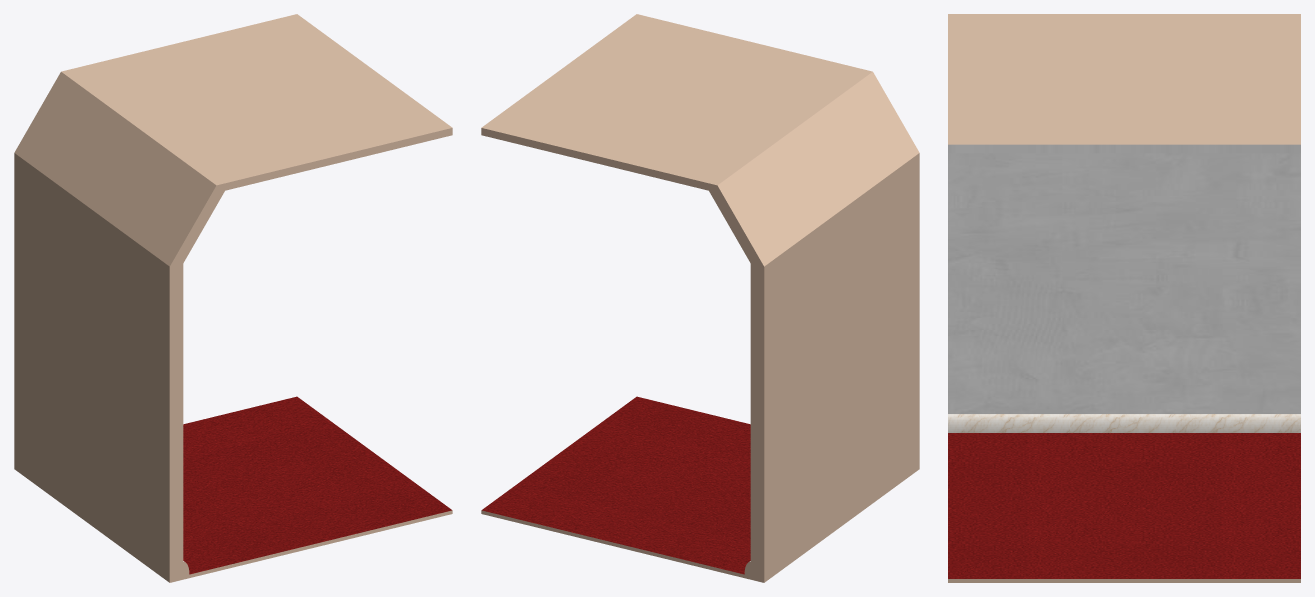
Rendered from Pared.fbx.
3 renders of one model, left to right at view 1: azimuth 30°, elevation 25°; view 2: azimuth 150°, elevation 25°; view 3: azimuth 270°, elevation 25°, orthographic. The views are drawn at different scales.
Visible parts, largest first — view 1: Pared y piso; view 2: Pared y piso; view 3: Pared y piso.
Part boxes in pixels (x1,y1,x2,y2): Pared y piso: (14, 14, 452, 582); Pared y piso: (481, 14, 919, 582); Pared y piso: (948, 14, 1300, 582).
Size of the model in its own units: 421 by 549 by 401.
Materials: 4 (3 with a texture image).
